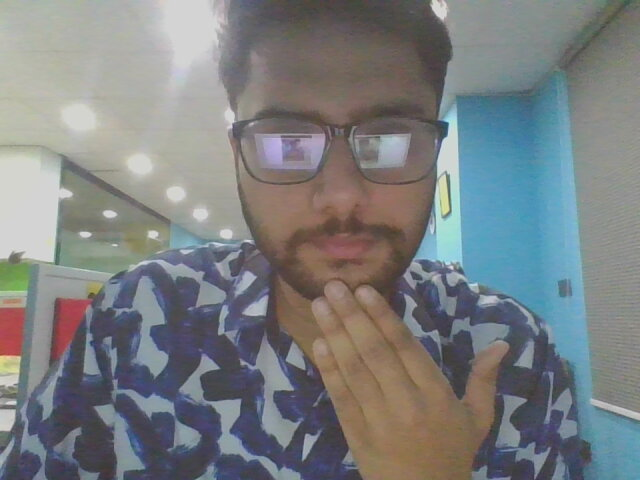thanks: (291, 274, 546, 480)
